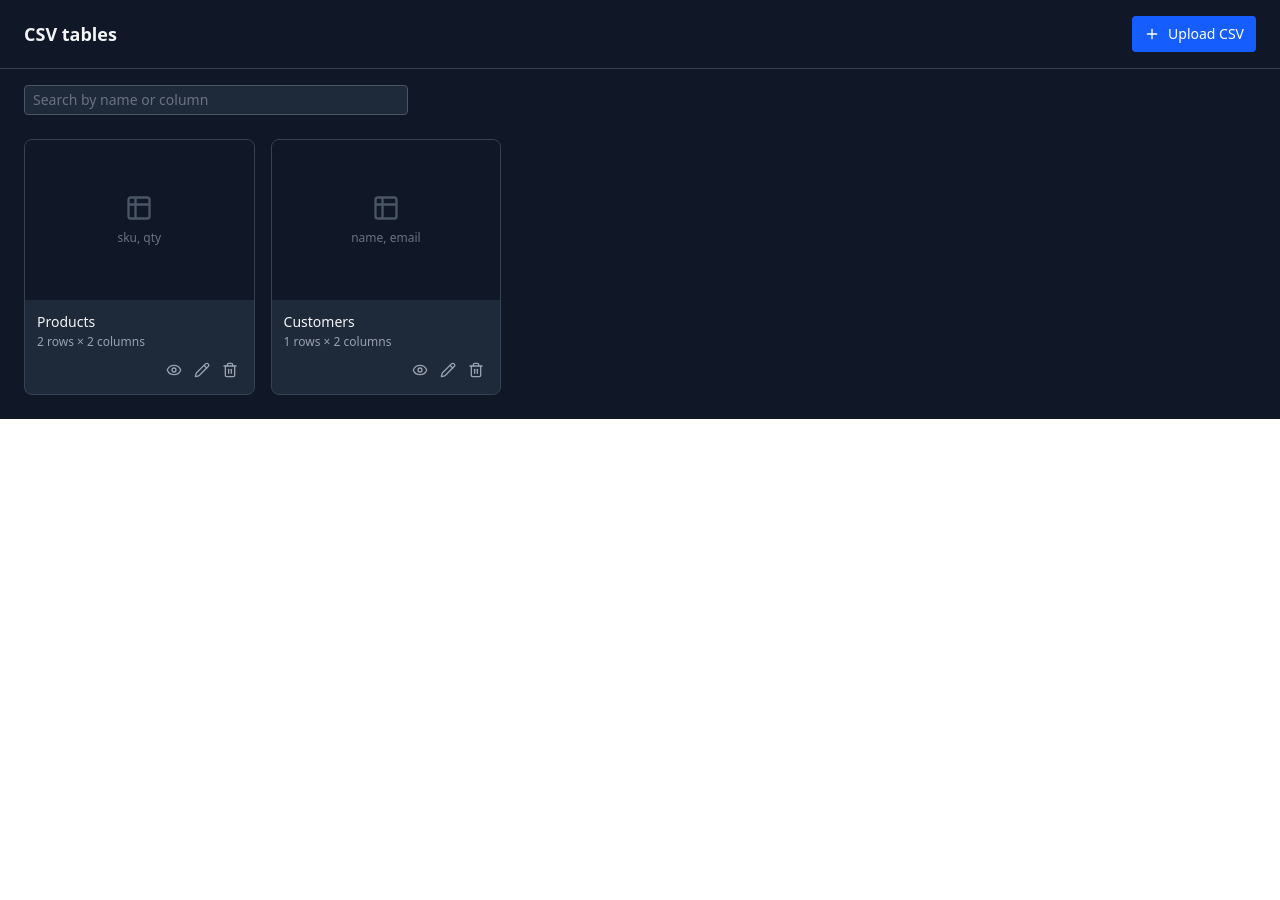
Test case: CsvSection › opens the read-only view dialog with the columns and rows
Expected: the text "Products" is shown, [37, 312, 95, 332]
Click the button named "View" below "2 rows × 2 columns". click: (174, 370)
box: [162, 358, 186, 382]
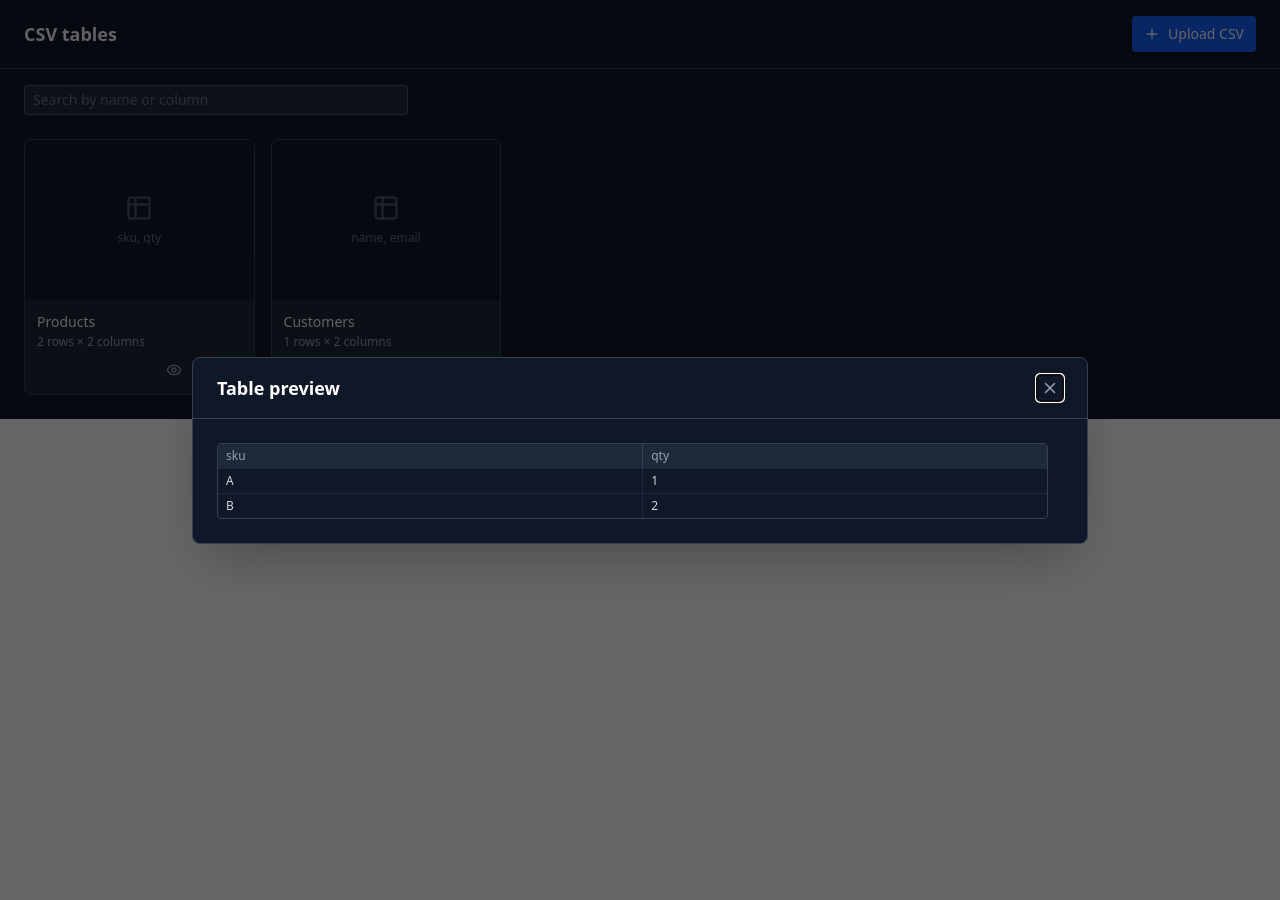
Expected: the column heading "sku" is shown, [218, 444, 643, 468]
Expected: the column heading "qty" is shown, [643, 444, 1047, 468]
Expected: the text "A" is shown, [218, 468, 643, 493]
